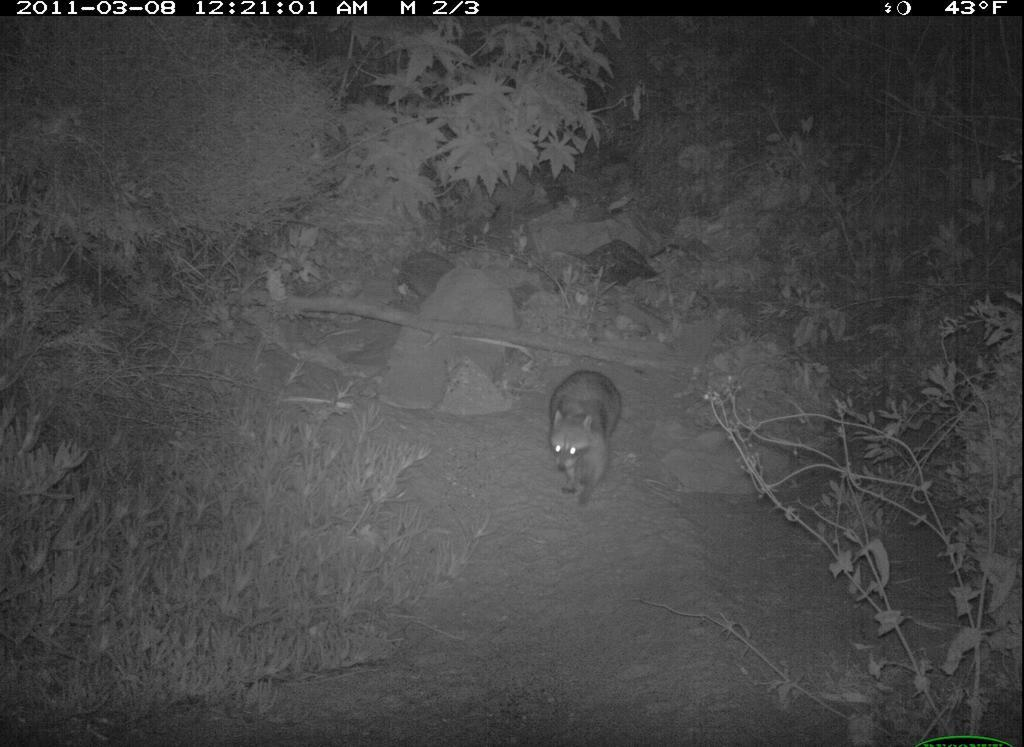raccoon: (527, 362, 633, 503)
